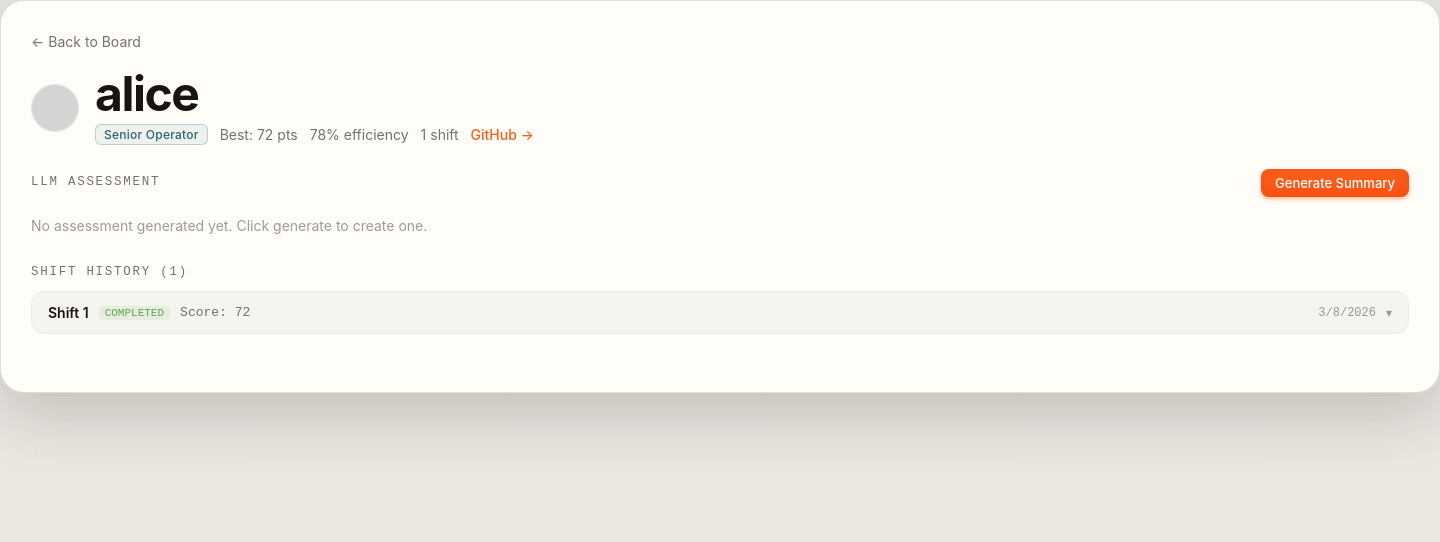
AdminDetailView › expands shift to show runs
# Click to expand shift
Step 1. Click the button "Shift 1 completed Score: 72 3/8/2026 ▾" → x=65, y=313, box [32,292,1408,333]
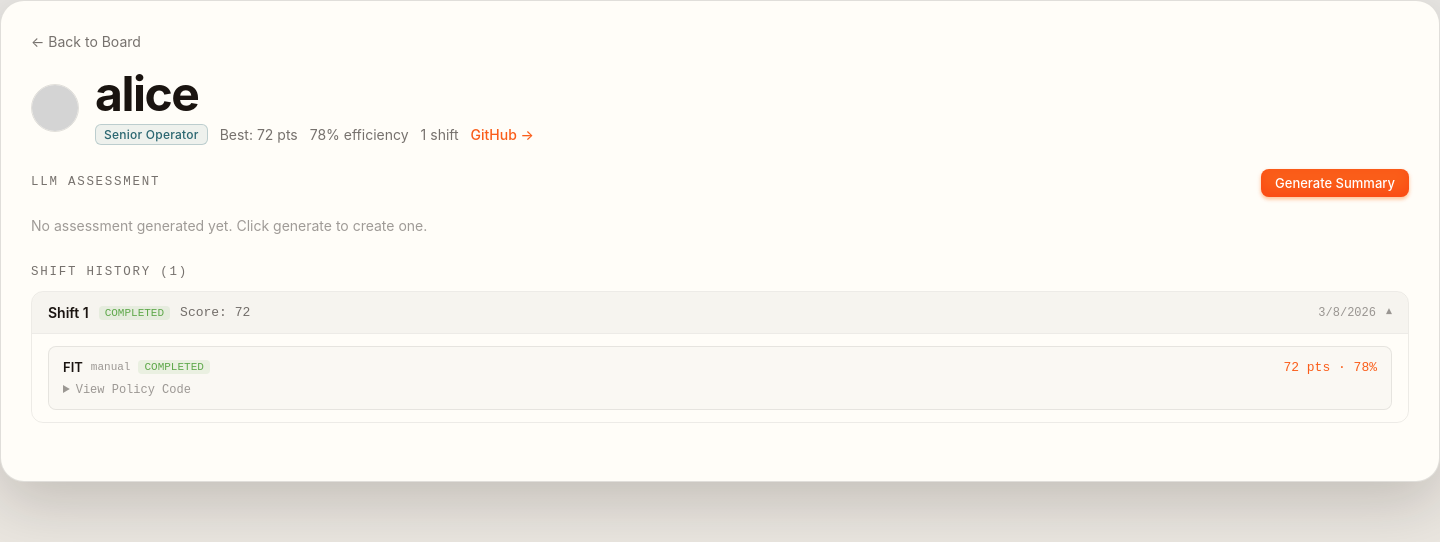
Result: the text "fit" is shown at [63,359,83,375]
Result: the text "manual" is shown at [91,361,130,373]
Result: the heading "View Policy Code" is shown at [76,383,191,397]
